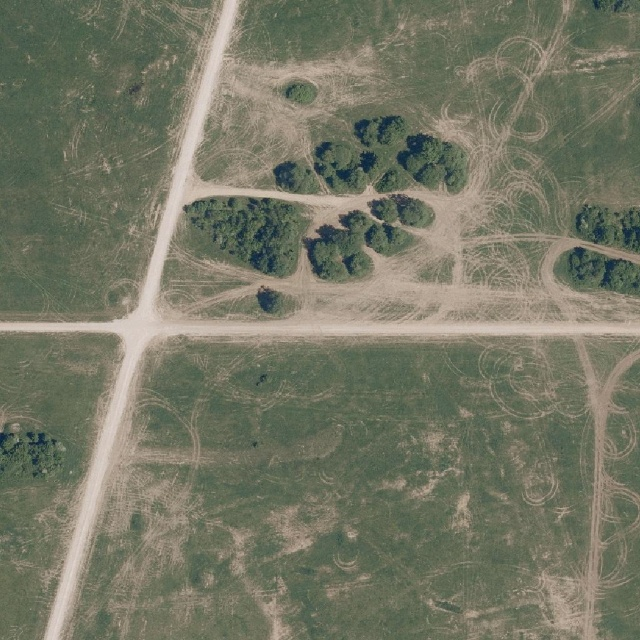vegetation: (272, 115, 462, 193), (310, 198, 434, 280), (183, 197, 305, 277), (564, 247, 640, 296), (0, 429, 66, 481), (578, 205, 640, 253)
